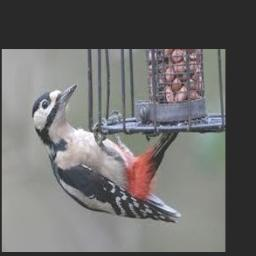Woodpecker: (31, 84, 181, 224)
